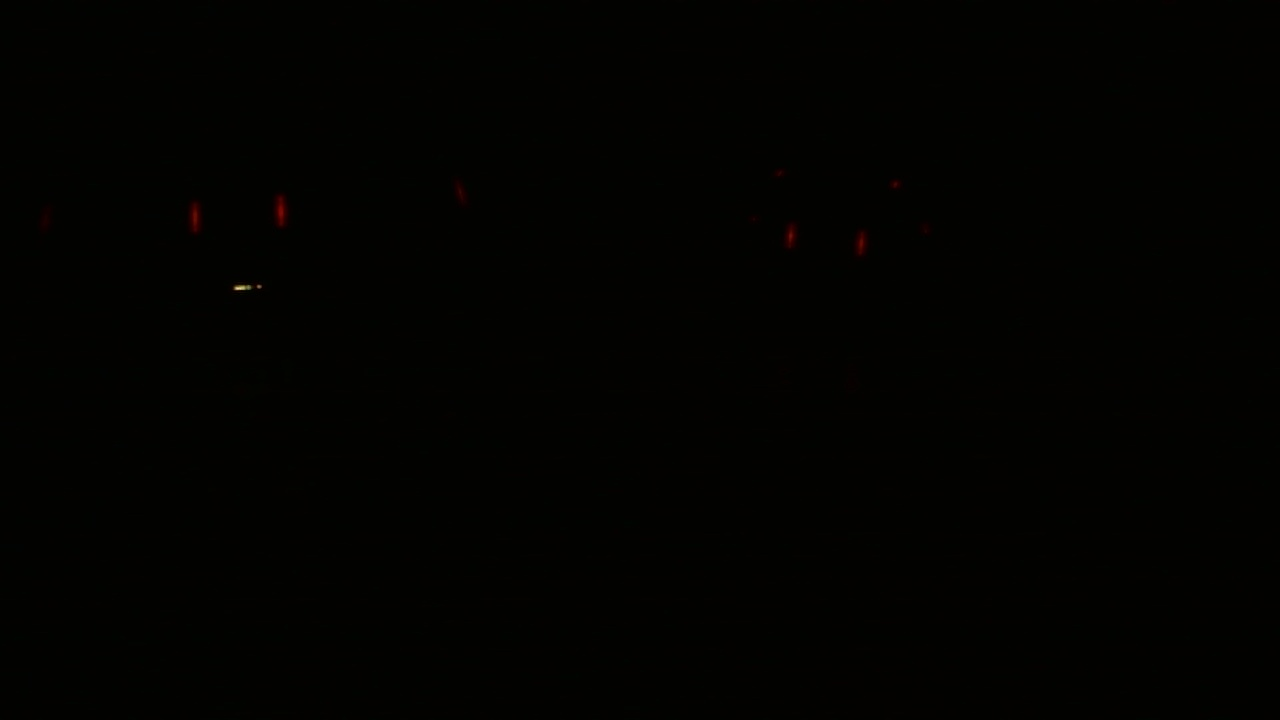pair1: (179, 181, 300, 242)
pair2: (775, 222, 877, 268)
